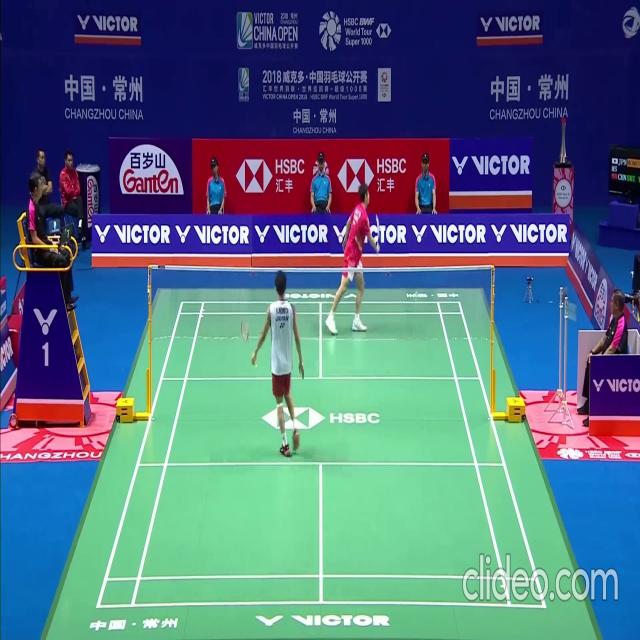Shuttlecock: (414, 288, 419, 296)
